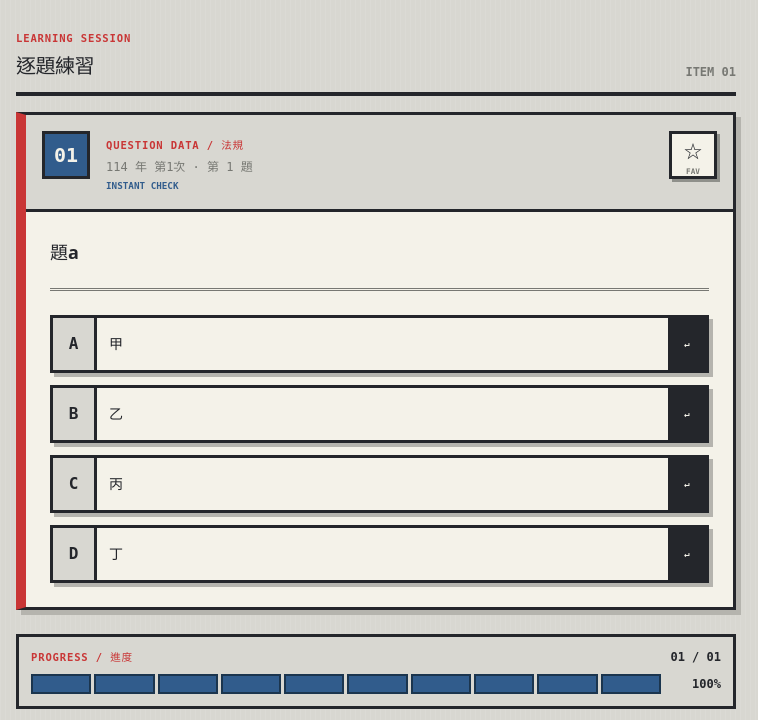
Test: QuizRunner › presents a system result status after finishing a round
Click the text "丙" at (116, 483), box [109, 474, 123, 493]
(page scrolled)
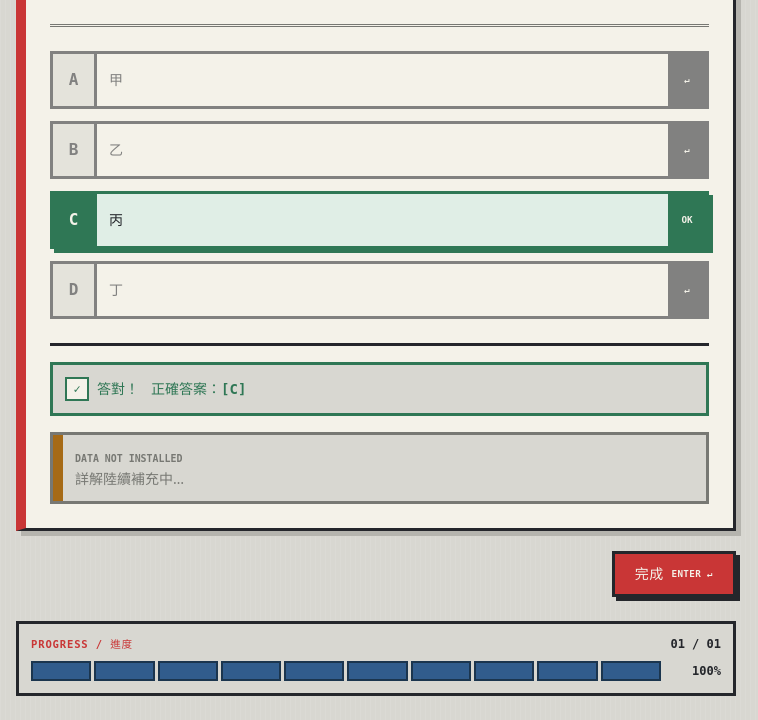
Click the button "完成 ENTER ↵" at (674, 574), box [612, 551, 736, 597]
(page scrolled)
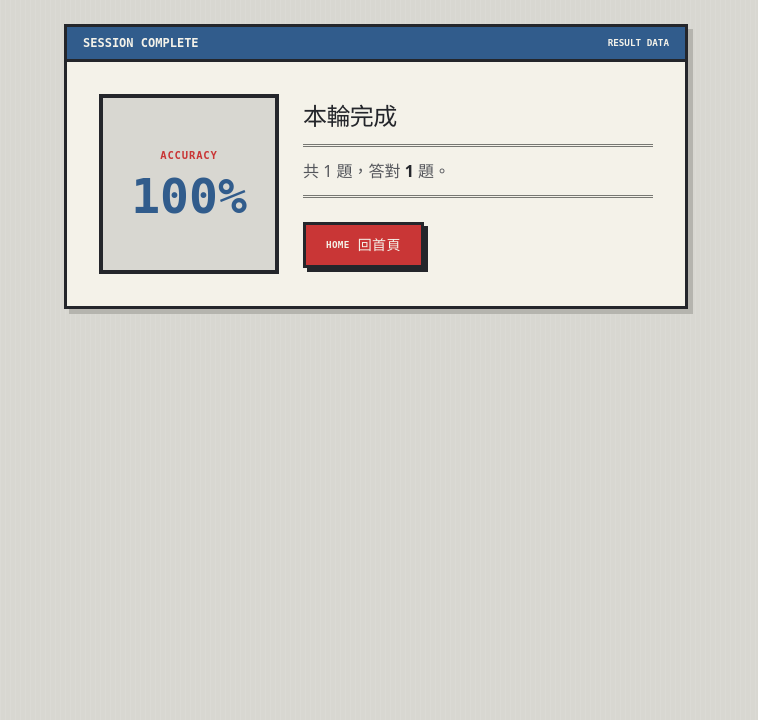
Expected: the message named "本輪學習結果" shows "100%", [64, 24, 688, 309]
